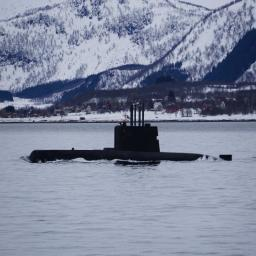submarine: (31, 100, 244, 165)
